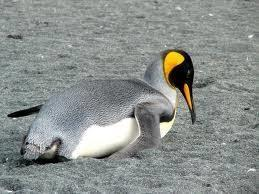king: (14, 37, 207, 172)
